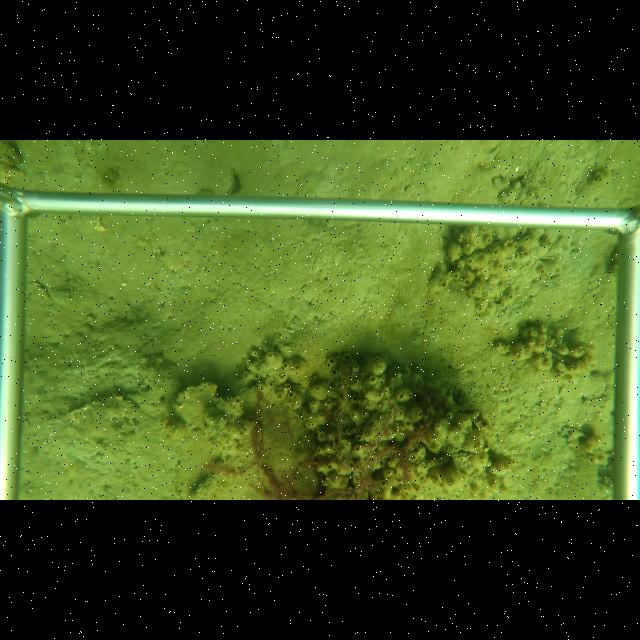Oyster-Closed: (171, 381, 265, 457), (197, 166, 240, 195)
